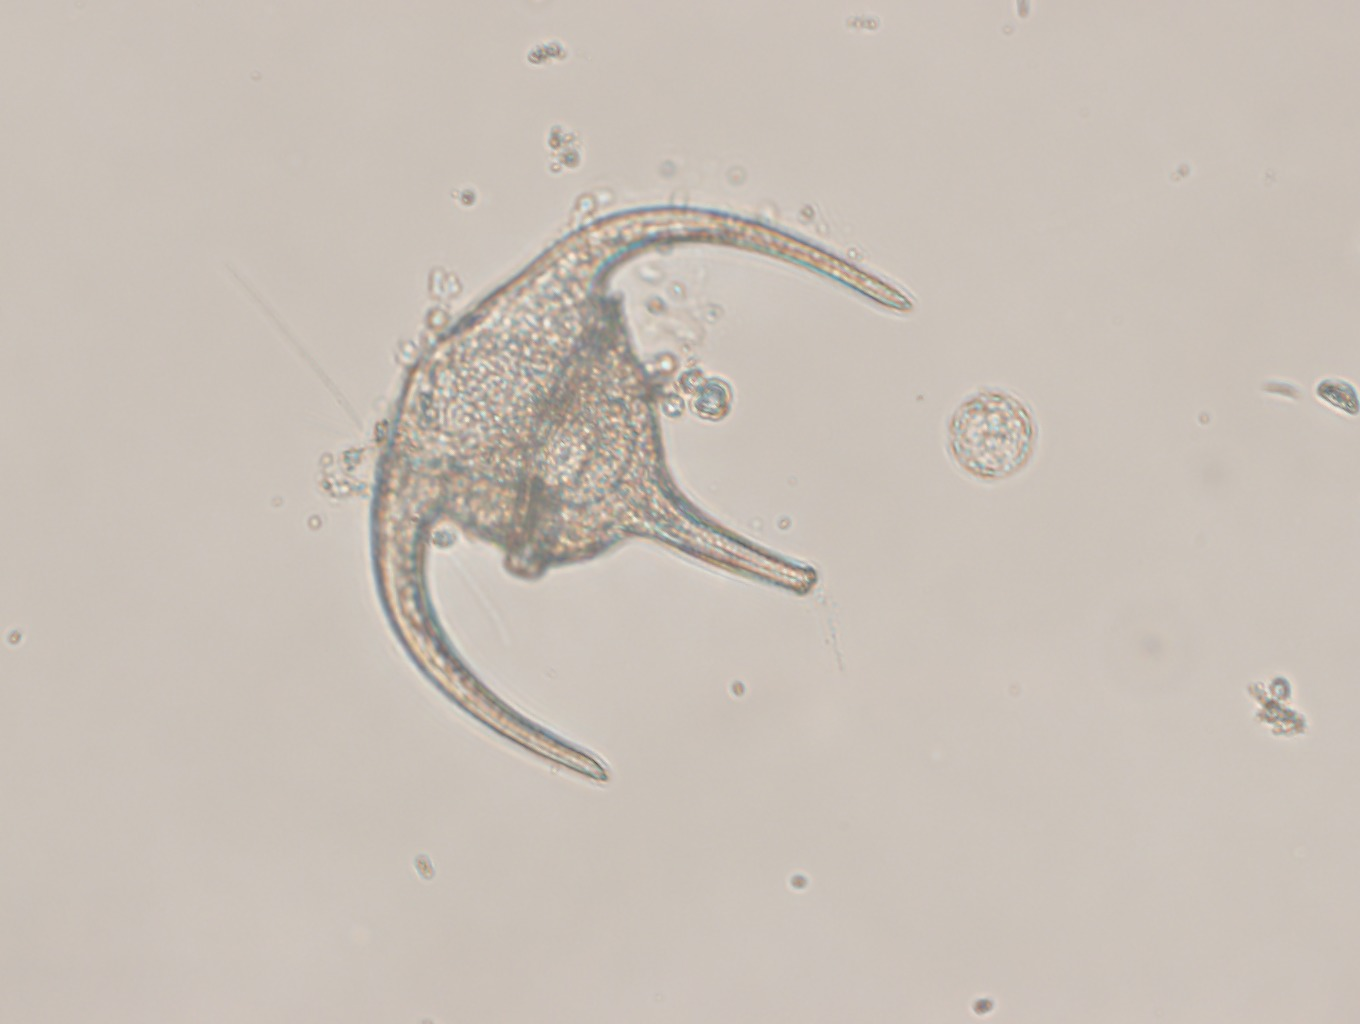ceratium tripos: (368, 203, 913, 783)
